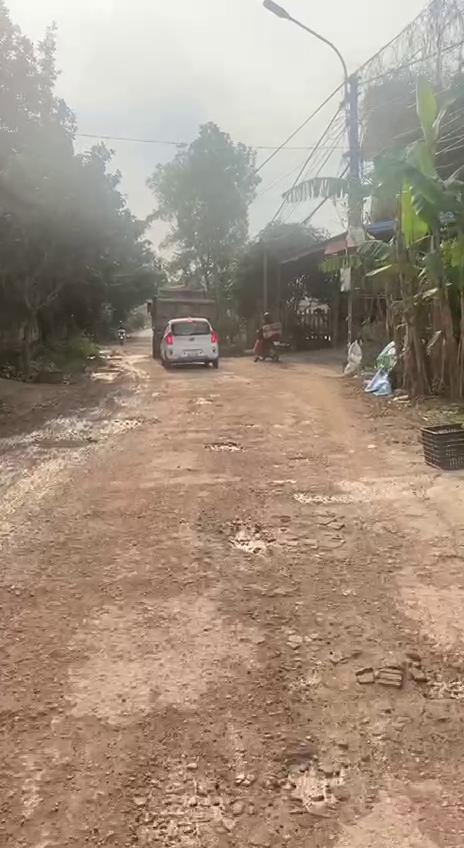pothole: (0, 687, 372, 848), (218, 508, 284, 562), (202, 440, 245, 456)
